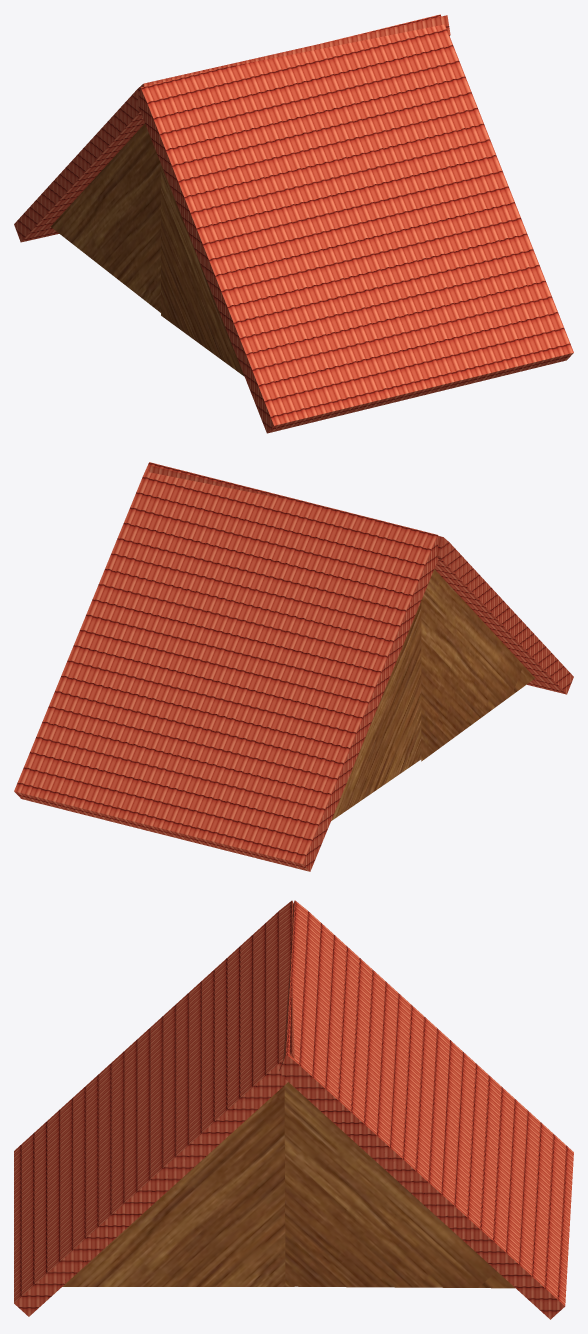
The model's file is roof_full.fbx.
The picture shows the model from 3 angles, top to bottom: view 1: azimuth 30°, elevation 25°; view 2: azimuth 150°, elevation 25°; view 3: azimuth 270°, elevation 25°; orthographic projection. The views are drawn at different scales.
Parts seen in each view (by area): view 1: Cube.033; view 2: Cube.033; view 3: Cube.033.
Part boxes in pixels (<box>): Cube.033: <box>14,14,573,433</box>; Cube.033: <box>14,462,573,871</box>; Cube.033: <box>14,900,573,1319</box>.
Size of the model in its own units: 305 by 242 by 460.
4 materials, 4 textured.
